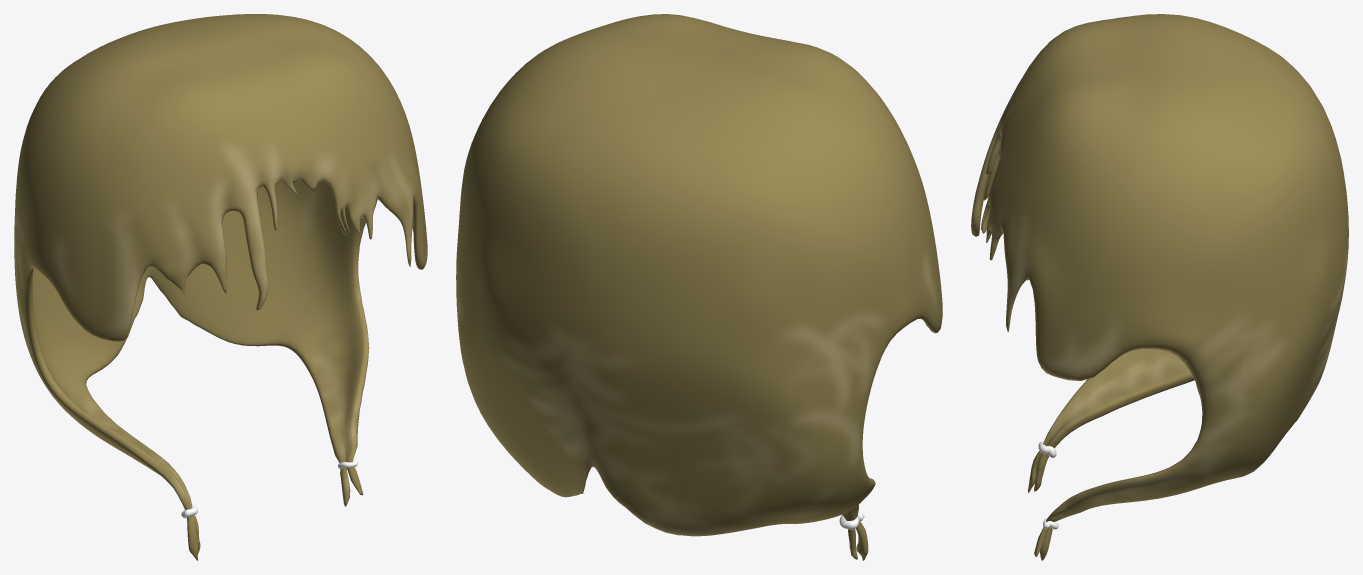
The model's file is Braid_Blonde.glb.
3 views of the same model, side by side, from view 1: azimuth 30°, elevation 25°; view 2: azimuth 150°, elevation 25°; view 3: azimuth 270°, elevation 25° (orthographic). The views are drawn at different scales.
Visible parts, largest first — view 1: Braid_Blonde; view 2: Braid_Blonde; view 3: Braid_Blonde.
Part boxes in pixels (x1,y1,x2,y2): Braid_Blonde: [14, 14, 427, 560]; Braid_Blonde: [456, 14, 942, 560]; Braid_Blonde: [971, 14, 1348, 560].
Size of the model in its own units: 0.936 by 1.11 by 0.791.
2 materials, 1 textured.
